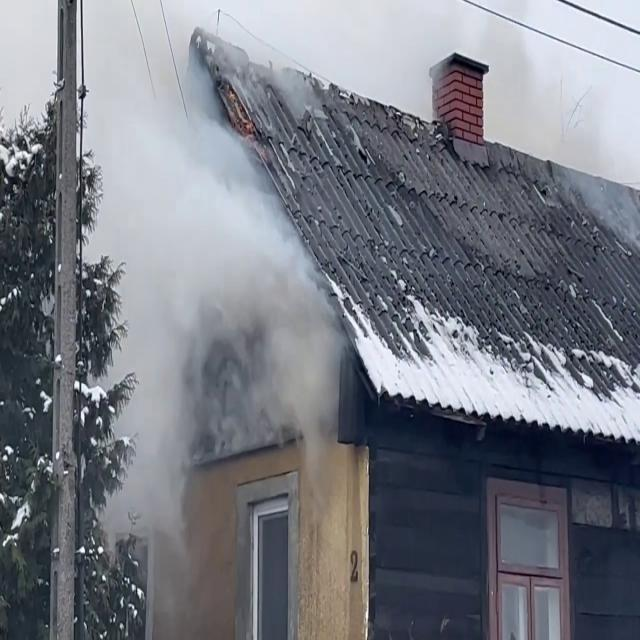Smoke: (93, 16, 350, 496)
